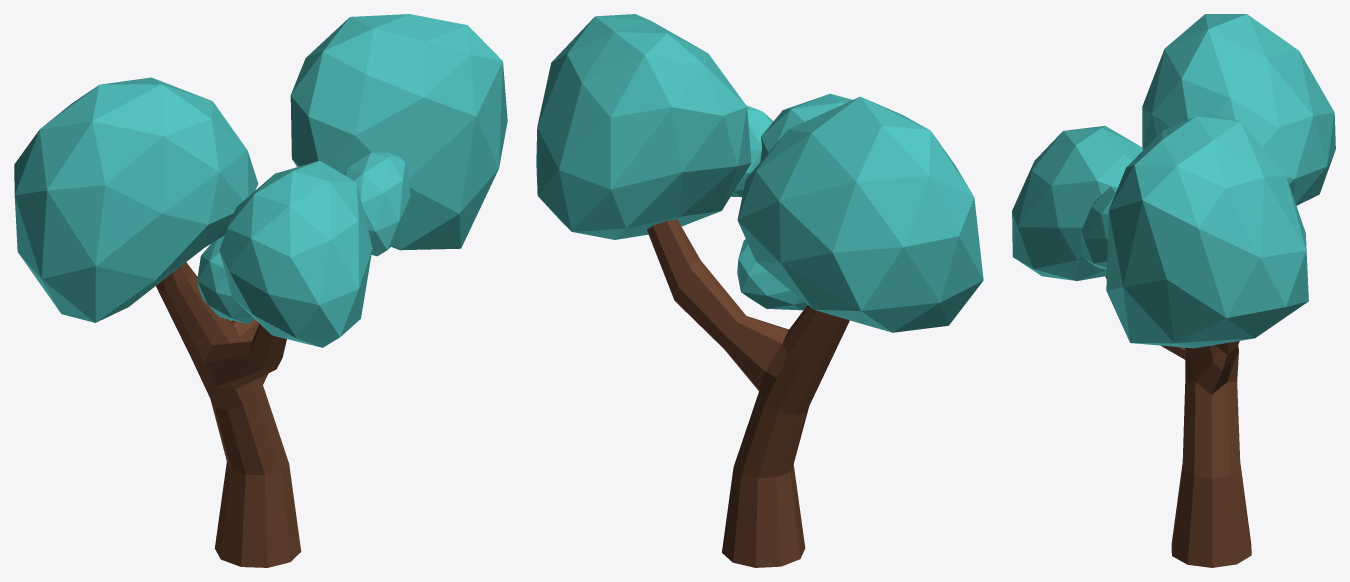
3 views of the same model, side by side, from view 1: azimuth 30°, elevation 25°; view 2: azimuth 150°, elevation 25°; view 3: azimuth 270°, elevation 25° (orthographic). The views are drawn at different scales.
Parts seen in each view (by area): view 1: t2-cyan; view 2: t2-cyan; view 3: t2-cyan.
Boxes of the visible parts, box(x1,y1,x2,y2) form: t2-cyan: box(14, 14, 507, 567); t2-cyan: box(536, 14, 983, 567); t2-cyan: box(1012, 14, 1335, 567).
Size of the model in its own units: 673 by 718 by 435.
